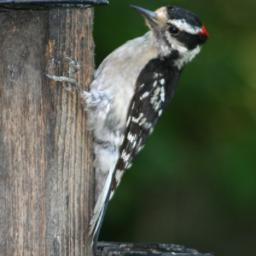Woodpecker: (46, 4, 208, 249)
